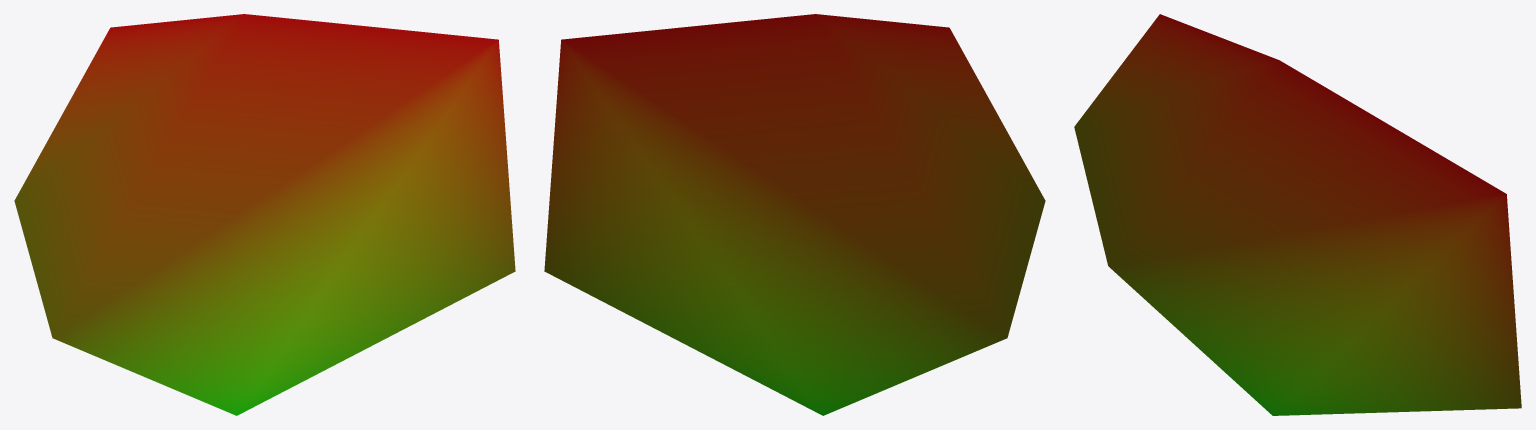
File: Var9_LOD5.fbx
3 renders of one model, left to right at view 1: azimuth 30°, elevation 25°; view 2: azimuth 150°, elevation 25°; view 3: azimuth 330°, elevation 25°, orthographic. The views are drawn at different scales.
Visible parts, largest first — view 1: _f0e1_Var9_LOD5; view 2: _f0e1_Var9_LOD5; view 3: _f0e1_Var9_LOD5.
Part boxes in pixels (box(x1,y1,x2,y2)): _f0e1_Var9_LOD5: box(14, 14, 515, 415); _f0e1_Var9_LOD5: box(544, 14, 1045, 415); _f0e1_Var9_LOD5: box(1074, 14, 1521, 415).
Size of the model in its own units: 35.37 by 28.27 by 1.43e-06.
